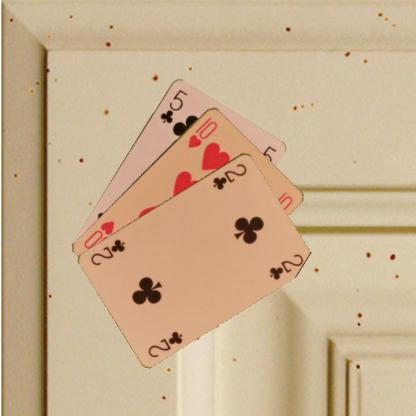10h: (185, 114, 219, 148)
2c: (145, 327, 184, 358), (210, 161, 248, 191)
5c: (157, 87, 189, 124)
